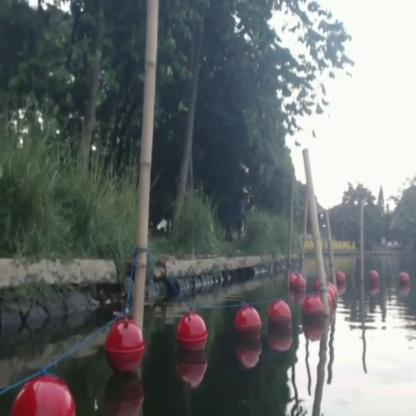red_buoy: (14, 380, 70, 414), (108, 320, 143, 374), (232, 308, 258, 352), (179, 314, 204, 352), (304, 295, 323, 330), (272, 300, 283, 336), (393, 269, 408, 292), (368, 272, 380, 292), (328, 290, 337, 312), (295, 280, 304, 298), (337, 272, 344, 290), (289, 272, 293, 288)
